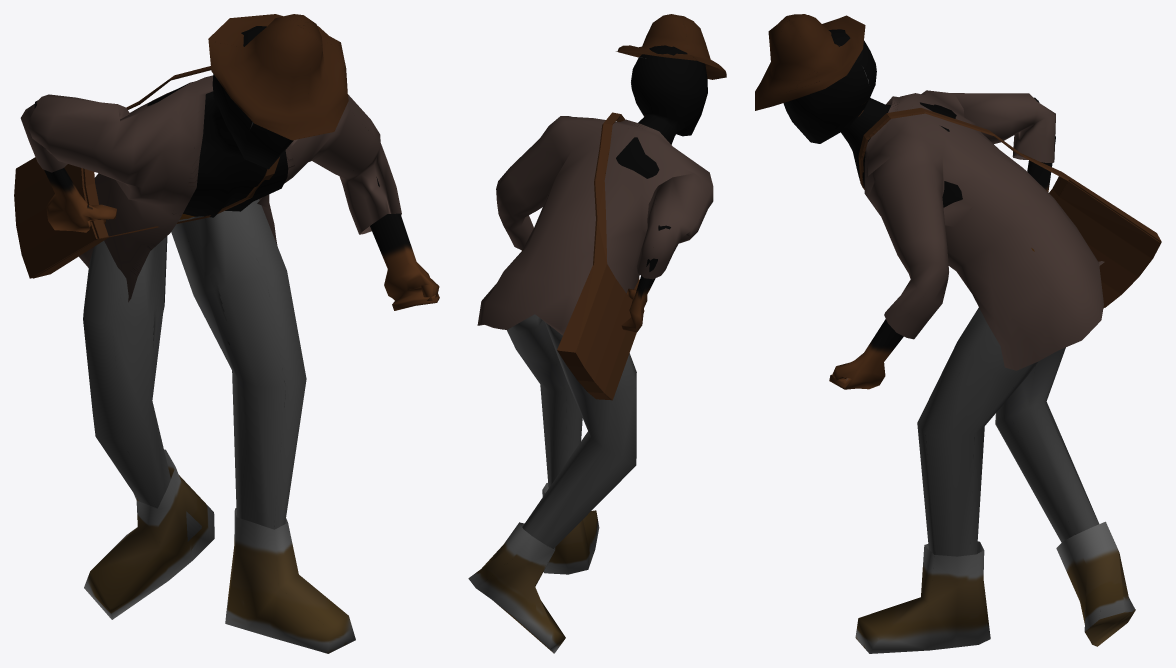
File: rightyHo_3.obj
The picture shows the model from 3 angles, left to right: view 1: azimuth 30°, elevation 25°; view 2: azimuth 150°, elevation 25°; view 3: azimuth 270°, elevation 25°; orthographic projection. The views are drawn at different scales.
Parts seen in each view (by area): view 1: Default_Body_Cube, Jacket_Cube.004, Default_Body.001_Cube.001, Hat_Cube.005, MessengerBag_Circle; view 2: Jacket_Cube.004, Default_Body_Cube, MessengerBag_Circle, Default_Body.001_Cube.001, Hat_Cube.005; view 3: Jacket_Cube.004, Default_Body_Cube, Default_Body.001_Cube.001, MessengerBag_Circle, Hat_Cube.005.
Part boxes in pixels (left/top/right/bottom): Default_Body_Cube: left=34, top=26, right=439, bottom=541; Jacket_Cube.004: left=20, top=75, right=401, bottom=302; Default_Body.001_Cube.001: left=84, top=449, right=355, bottom=653; Hat_Cube.005: left=208, top=14, right=348, bottom=140; MessengerBag_Circle: left=14, top=66, right=279, bottom=278; Jacket_Cube.004: left=477, top=116, right=713, bottom=335; Default_Body_Cube: left=507, top=45, right=707, bottom=548; MessengerBag_Circle: left=557, top=112, right=644, bottom=400; Default_Body.001_Cube.001: left=468, top=483, right=599, bottom=653; Hat_Cube.005: left=616, top=14, right=726, bottom=79; Jacket_Cube.004: left=864, top=90, right=1104, bottom=370; Default_Body_Cube: left=783, top=29, right=1099, bottom=616; Default_Body.001_Cube.001: left=855, top=521, right=1135, bottom=653; MessengerBag_Circle: left=858, top=108, right=1161, bottom=308; Hat_Cube.005: left=755, top=14, right=865, bottom=110.
Size of the model in its own units: 2.33 by 5.1 by 2.96.
